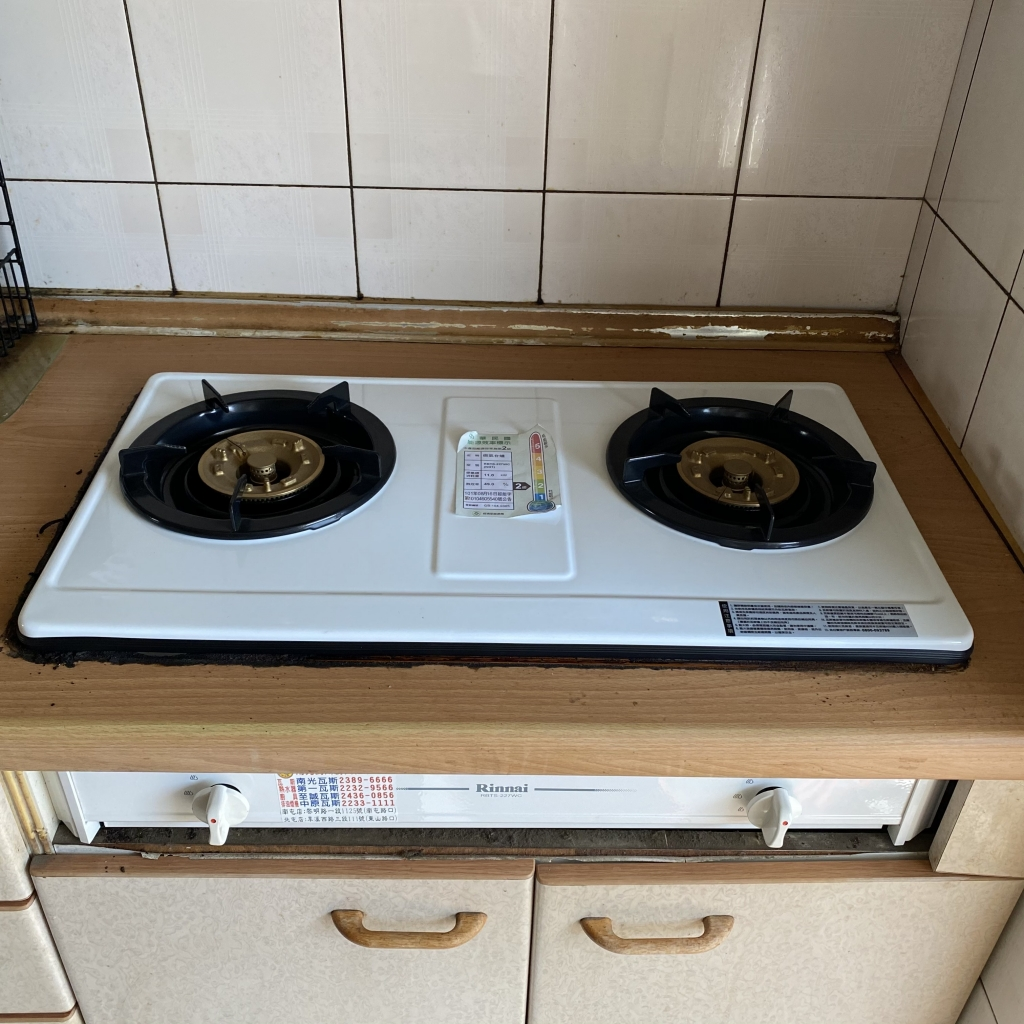gasoven: (6, 358, 986, 680)
